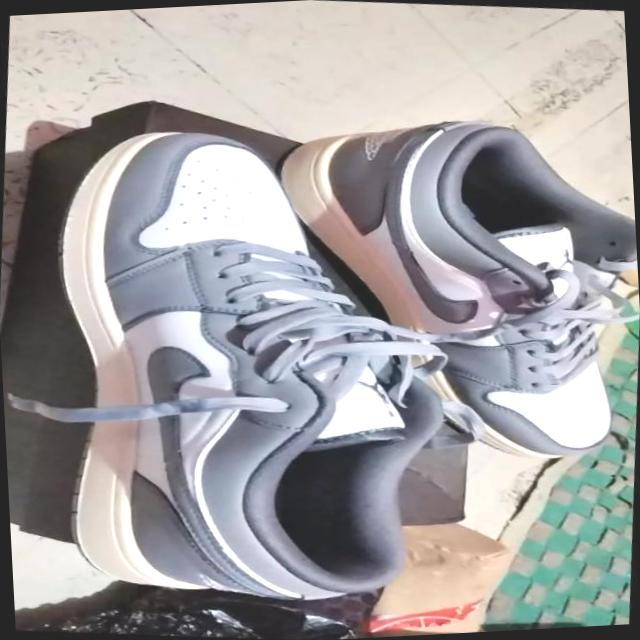nike_fake_jordan: (10, 92, 487, 630), (250, 89, 640, 484)
